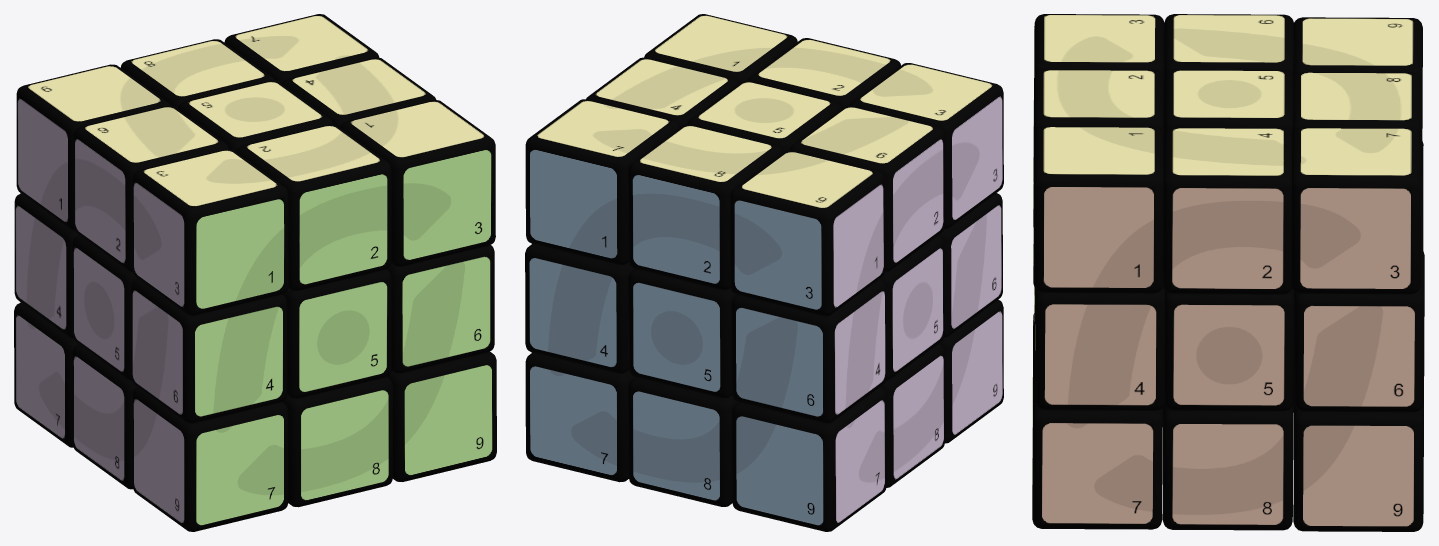
Rendered from Rubix_cube_495.glb.
3 renders of one model, left to right at view 1: azimuth 30°, elevation 25°; view 2: azimuth 150°, elevation 25°; view 3: azimuth 270°, elevation 25°, orthographic. The views are drawn at different scales.
Parts seen in each view (by area): view 1: s3_block_2, s3_block_5, s3_block_3, s3_block_6, s3_block_9, s3_block_4, s3_block_1, s3_block_8, s3_block_7, top_block_3, s4_block_1, s4_block_4 (+34 smaller); view 2: s1_block_9, s1_block_4, s1_block_3, s1_block_5, s1_block_8, s1_block_6, s1_block_2, s1_block_7, s1_block_1, top_block_9, s4_block_3, s4_block_6 (+34 smaller); view 3: s2_block_5, s2_block_4, s2_block_2, s2_block_3, s2_block_8, s2_block_9, s2_block_1, s2_block_6, s2_block_7, top_block_1, top_block_7, top_block_4 (+21 smaller).
Boxes of the visible parts, x1,y1,x2,y2 form: s3_block_2: [299, 172, 387, 285]; s3_block_5: [299, 280, 387, 393]; s3_block_3: [403, 148, 491, 261]; s3_block_6: [402, 255, 490, 367]; s3_block_9: [404, 364, 492, 476]; s3_block_4: [195, 305, 282, 418]; s3_block_1: [196, 199, 284, 308]; s3_block_8: [301, 388, 388, 501]; s3_block_7: [196, 413, 283, 526]; top_block_3: [132, 149, 288, 315]; s4_block_1: [17, 96, 68, 223]; s4_block_4: [15, 204, 66, 331]; s1_block_9: [736, 415, 823, 526]; s1_block_4: [529, 256, 616, 368]; s1_block_3: [734, 199, 821, 310]; s1_block_5: [633, 281, 720, 392]; s1_block_8: [632, 390, 719, 501]; s1_block_6: [736, 306, 823, 417]; s1_block_2: [632, 173, 719, 284]; s1_block_7: [530, 365, 617, 476]; s1_block_1: [530, 148, 617, 259]; top_block_9: [730, 150, 884, 316]; s4_block_3: [952, 94, 1002, 222]; s4_block_6: [951, 203, 1001, 330]; s2_block_5: [1173, 304, 1284, 405]; s2_block_4: [1044, 304, 1156, 405]; s2_block_2: [1172, 188, 1283, 289]; s2_block_3: [1300, 188, 1411, 288]; s2_block_8: [1172, 424, 1283, 524]; s2_block_9: [1303, 425, 1414, 526]; s2_block_1: [1043, 187, 1154, 287]; s2_block_6: [1303, 305, 1414, 406]; s2_block_7: [1041, 423, 1153, 523]; top_block_1: [1033, 126, 1163, 293]; top_block_7: [1291, 127, 1421, 294]; top_block_4: [1163, 127, 1292, 294].
Bounding box in the file's own units: 6.07 × 6.09 × 6.04.
7 materials, 6 textured.
